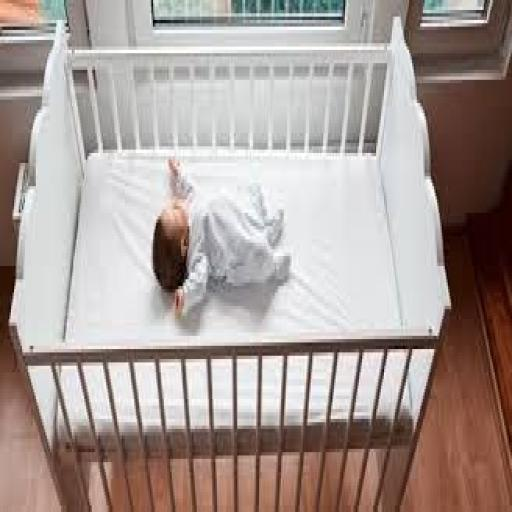baby: (153, 160, 290, 315)
crib: (11, 20, 449, 508)
